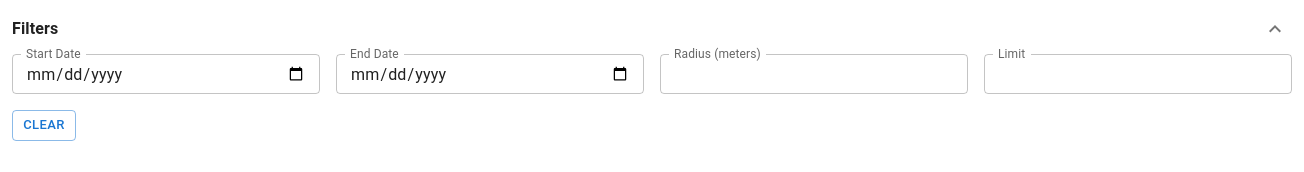
Test: Filters › can collapse and expand
Step 1. Click the button named "Collapse filters" → (1275, 29), box top-left (1258, 12), bottom-right (1292, 46)
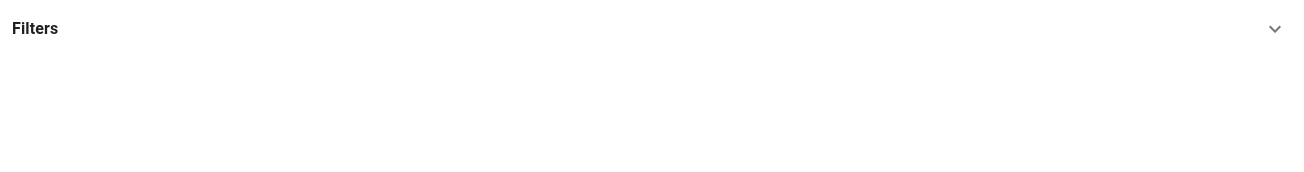
Result: the button named "Expand filters" is shown at top-left (1258, 12), bottom-right (1292, 46)
